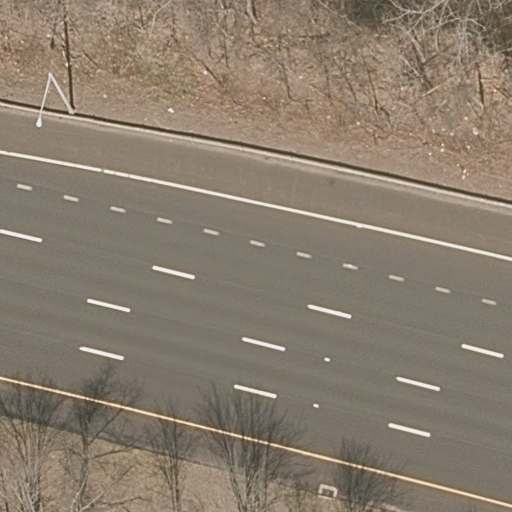DT: (35, 72, 76, 129)
